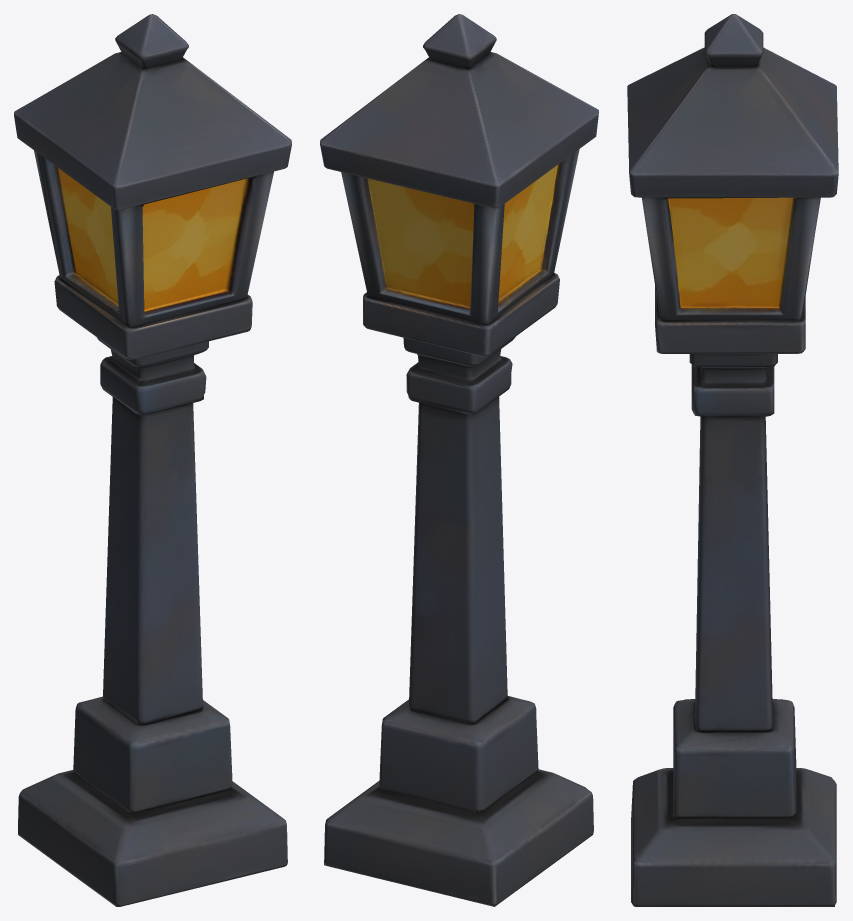
Rendered from streetlamp.glb.
The picture shows the model from 3 angles, left to right: view 1: azimuth 30°, elevation 25°; view 2: azimuth 150°, elevation 25°; view 3: azimuth 270°, elevation 25°; orthographic projection.
Parts seen in each view (by area): view 1: tripo_node_e4dab917-841b-4d3e-839e-7509d03d6229; view 2: tripo_node_e4dab917-841b-4d3e-839e-7509d03d6229; view 3: tripo_node_e4dab917-841b-4d3e-839e-7509d03d6229.
Part boxes in pixels (bbox=[...]): tripo_node_e4dab917-841b-4d3e-839e-7509d03d6229: bbox=[14, 14, 291, 906]; tripo_node_e4dab917-841b-4d3e-839e-7509d03d6229: bbox=[320, 14, 598, 906]; tripo_node_e4dab917-841b-4d3e-839e-7509d03d6229: bbox=[627, 14, 838, 906].
Size of the model in its own units: 0.6301 by 2.8 by 0.6301.
Materials: 1 (1 with a texture image).
